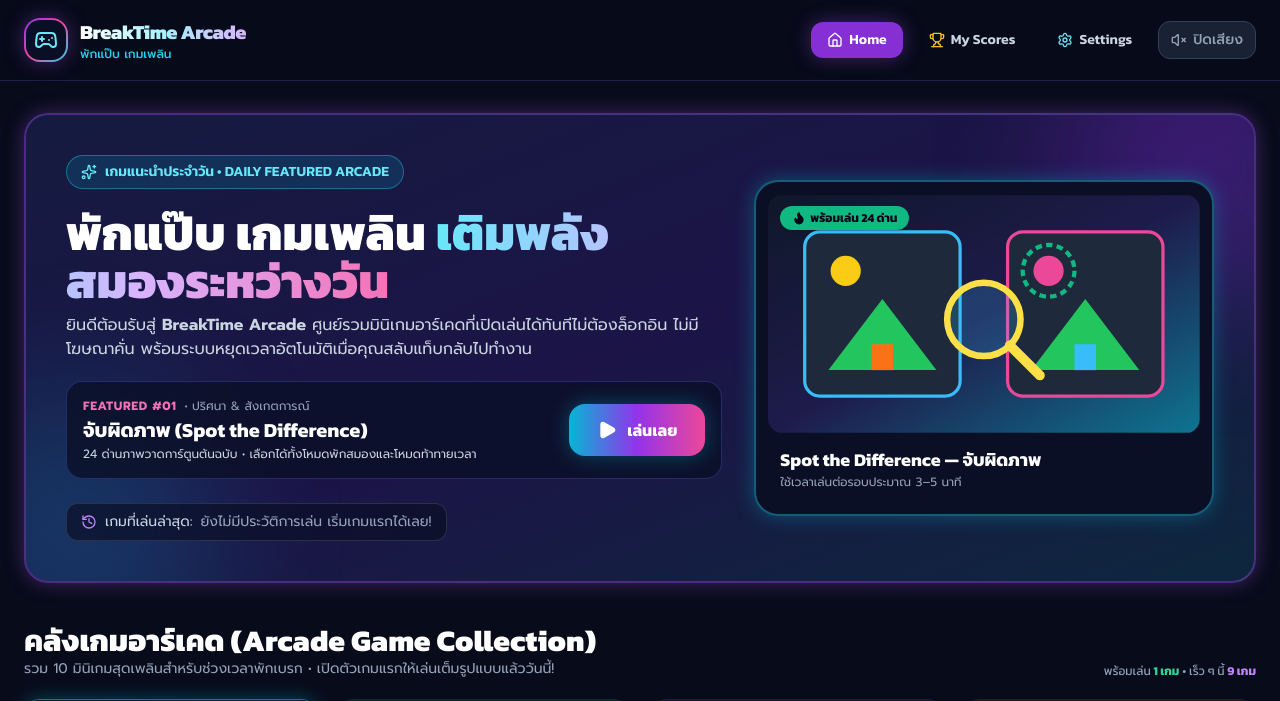
Test: BreakTime Arcade — Full User Flow & Gameplay Interaction › shows empty state on My Scores page before playing any game
Click the button with test id "nav-scores-btn": coordinates (972, 40) [913, 22, 1031, 58]
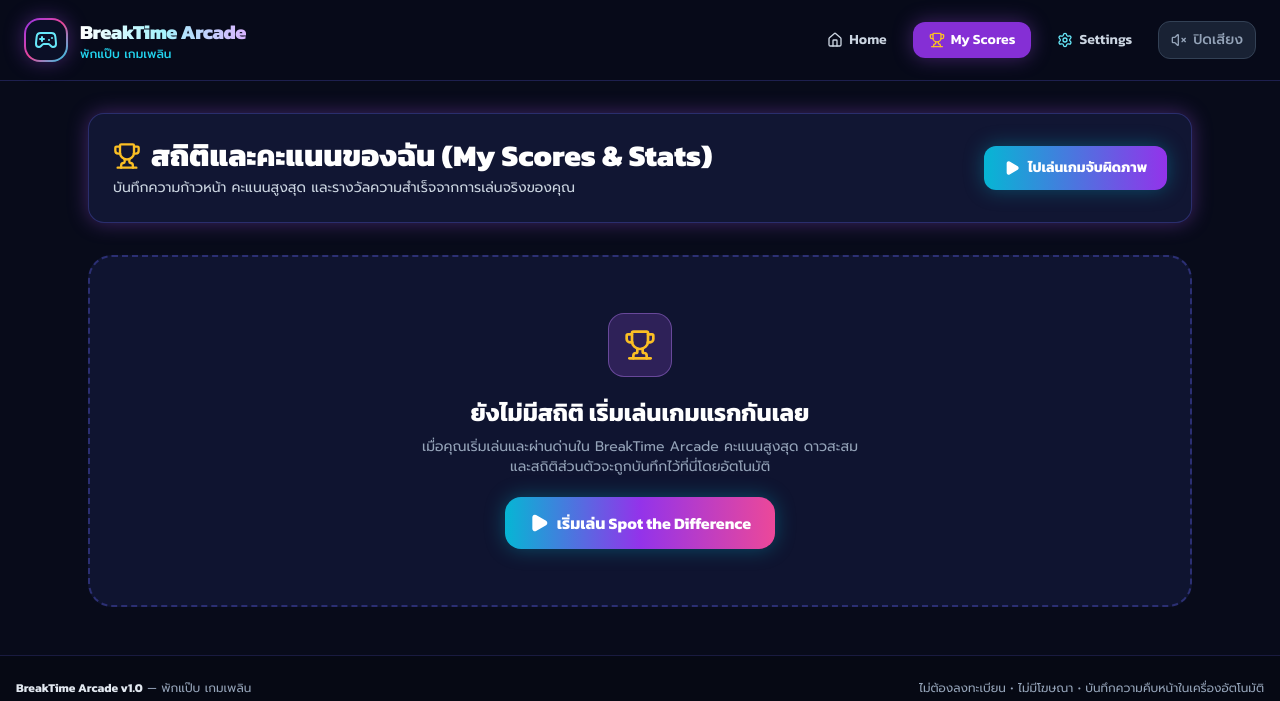
expect the element with test id "scores-empty-state" is shown: met, box [88, 255, 1192, 607]
expect the heading "ยังไม่มีสถิติ เริ่มเล่นเกมแรกกันเลย" is shown: met, box [471, 395, 809, 430]
